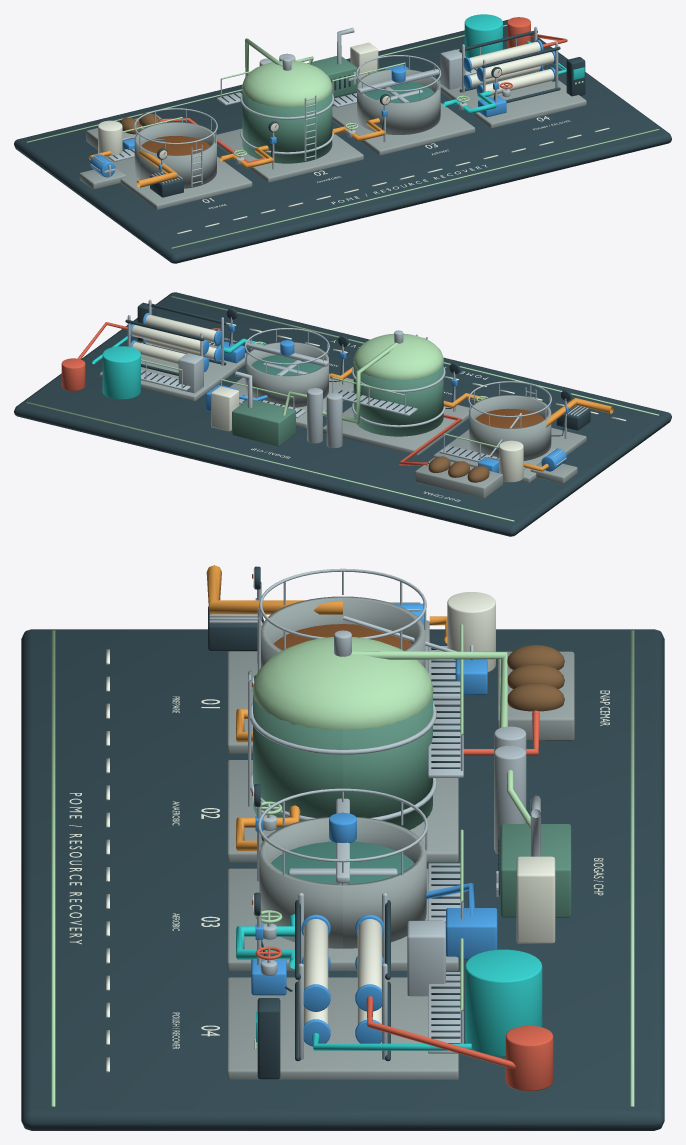
The model's file is pome-plant.6423ccd0f692.glb.
3 renders of one model, top to bottom at view 1: azimuth 30°, elevation 25°; view 2: azimuth 150°, elevation 25°; view 3: azimuth 270°, elevation 25°, orthographic. The views are drawn at different scales.
Visible parts, largest first — view 1: base_Graphite enamel, Station_0_Precast concrete, Digester_cut_shell, Station_2_Precast concrete, Digester_cut_dome, Station_3_Precast concrete, Aerobic_cut_shell, Station_1_Precast concrete, Equalisation_cut_shell, Station_3_Graphite enamel, base_Safety mint, Station_3_Recovered water teal (+23 smaller); view 2: base_Graphite enamel, Station_0_Precast concrete, Station_1_Digester enamel, Digester_cut_dome, Station_2_Precast concrete, Station_4_Digester enamel, Station_3_Recovered water teal, Station_1_Precast concrete, Station_4_Brushed stainless steel, base_Safety mint, Station_3_Precast concrete, Station_3_Brushed stainless steel (+25 smaller); view 3: base_Graphite enamel, Station_3_Precast concrete, Digester_cut_dome, Station_2_Precast concrete, Station_3_Recovered water teal, Station_1_Digester enamel, Digester_cut_shell, Station_3_Brushed stainless steel, Aerobic_cut_shell, Station_1_Brushed stainless steel, Station_1_Precast concrete, base_Safety mint (+26 smaller).
Part boxes in pixels (x1,y1,x2,y2): base_Graphite enamel: [14, 19, 671, 263]; Station_0_Precast concrete: [79, 122, 252, 209]; Digester_cut_shell: [248, 90, 332, 163]; Station_2_Precast concrete: [332, 69, 475, 155]; Digester_cut_dome: [242, 60, 332, 107]; Station_3_Precast concrete: [439, 69, 586, 128]; Aerobic_cut_shell: [362, 77, 440, 134]; Station_1_Precast concrete: [216, 128, 363, 182]; Equalisation_cut_shell: [140, 131, 216, 188]; Station_3_Graphite enamel: [459, 30, 585, 102]; base_Safety mint: [26, 24, 659, 248]; Station_3_Recovered water teal: [464, 14, 584, 79]; base_Graphite enamel: [14, 292, 671, 536]; Station_0_Precast concrete: [433, 403, 586, 483]; Station_1_Digester enamel: [353, 363, 437, 436]; Digester_cut_dome: [353, 333, 443, 380]; Station_2_Precast concrete: [230, 350, 353, 428]; Station_4_Digester enamel: [232, 399, 295, 446]; Station_3_Recovered water teal: [92, 336, 140, 399]; Station_1_Precast concrete: [323, 405, 469, 455]; Station_4_Brushed stainless steel: [235, 371, 342, 448]; base_Safety mint: [26, 296, 659, 521]; Station_3_Precast concrete: [99, 342, 246, 401]; Station_3_Brushed stainless steel: [127, 299, 232, 393]; base_Graphite enamel: [21, 629, 664, 1130]; Station_3_Precast concrete: [227, 977, 458, 1079]; Digester_cut_dome: [252, 637, 433, 730]; Station_2_Precast concrete: [227, 817, 458, 970]; Station_3_Recovered water teal: [256, 949, 542, 1056]; Station_1_Digester enamel: [343, 694, 432, 829]; Digester_cut_shell: [253, 694, 342, 829]; Station_3_Brushed stainless steel: [257, 892, 463, 1059]; Aerobic_cut_shell: [259, 817, 342, 948]; Station_1_Brushed stainless steel: [248, 630, 463, 830]; Station_1_Precast concrete: [227, 760, 458, 862]; base_Safety mint: [51, 630, 634, 1106].
Bounding box in the file's own units: 18 × 3.47 × 10.
